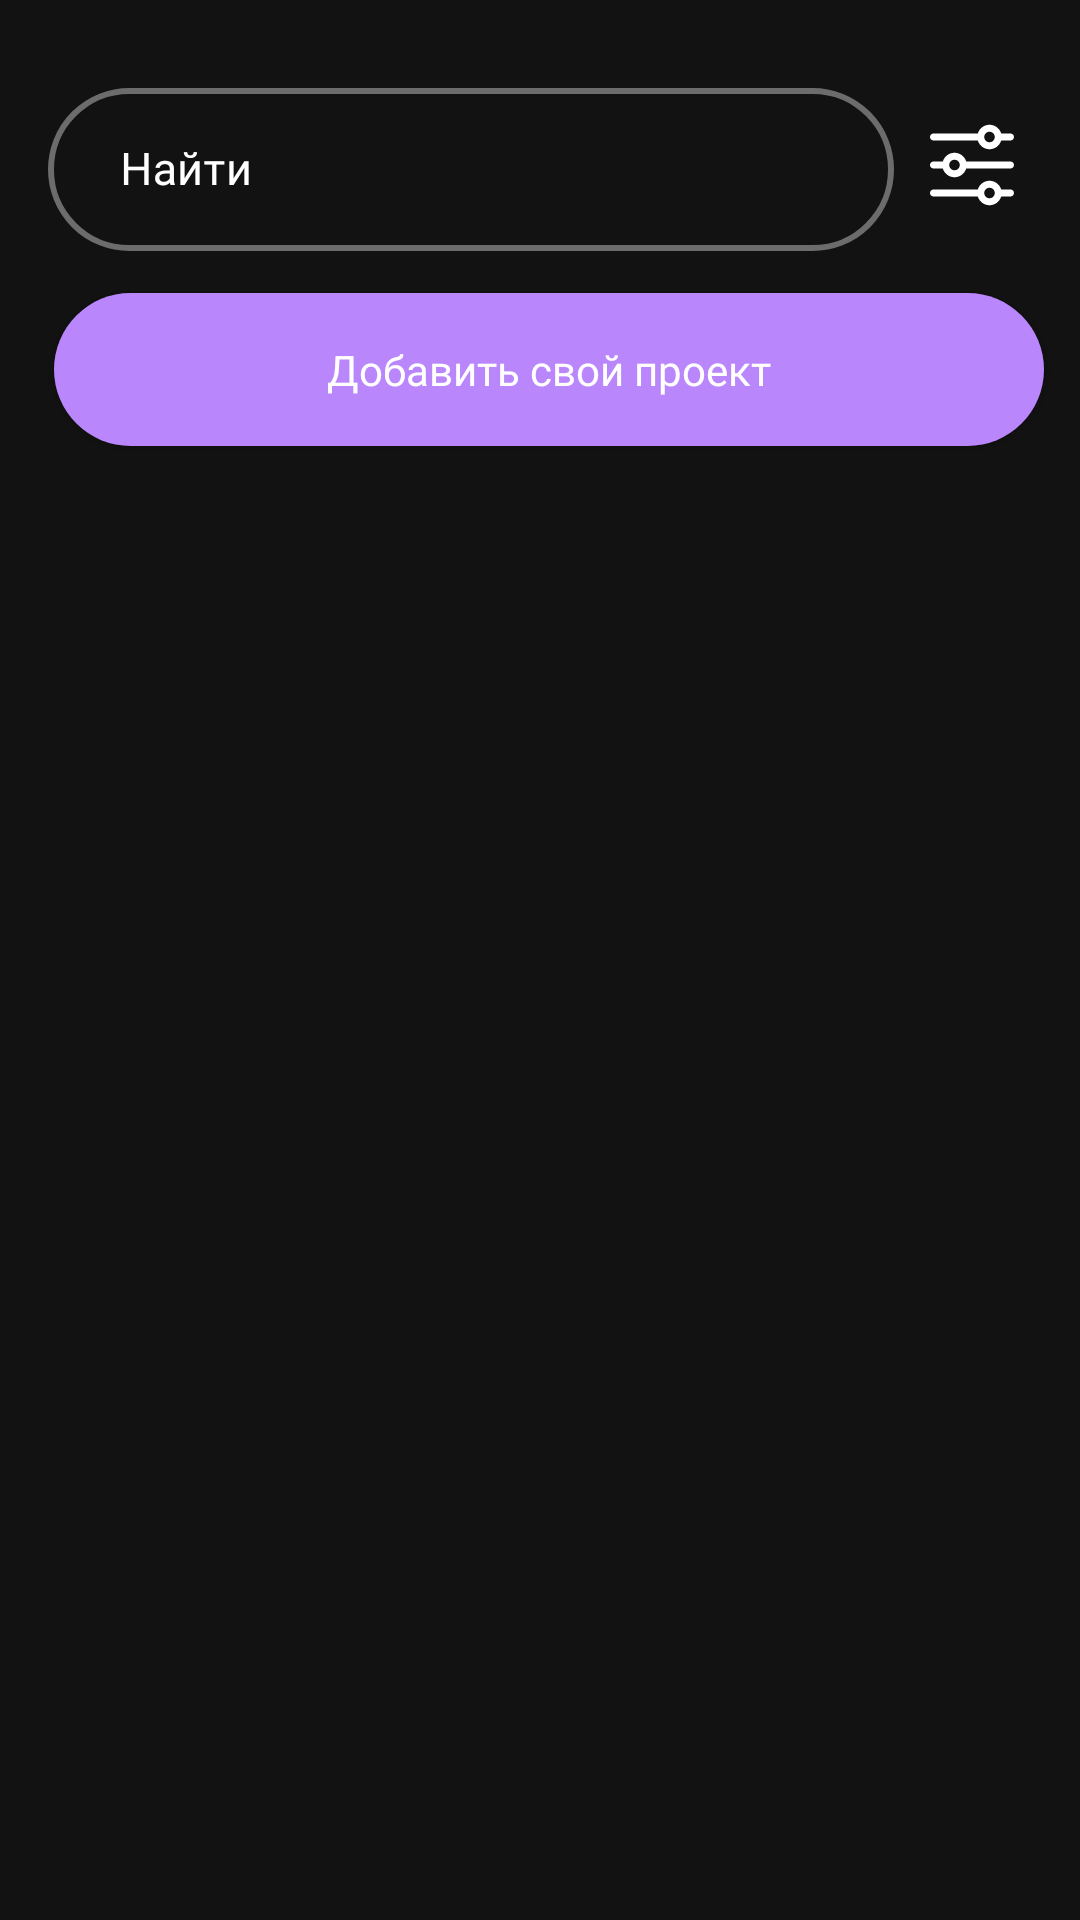

Icons on this 1080 × 1920 Android screen, each with its box as (x1, y1, x2, y2):
adjust: (930, 124, 1014, 206)
